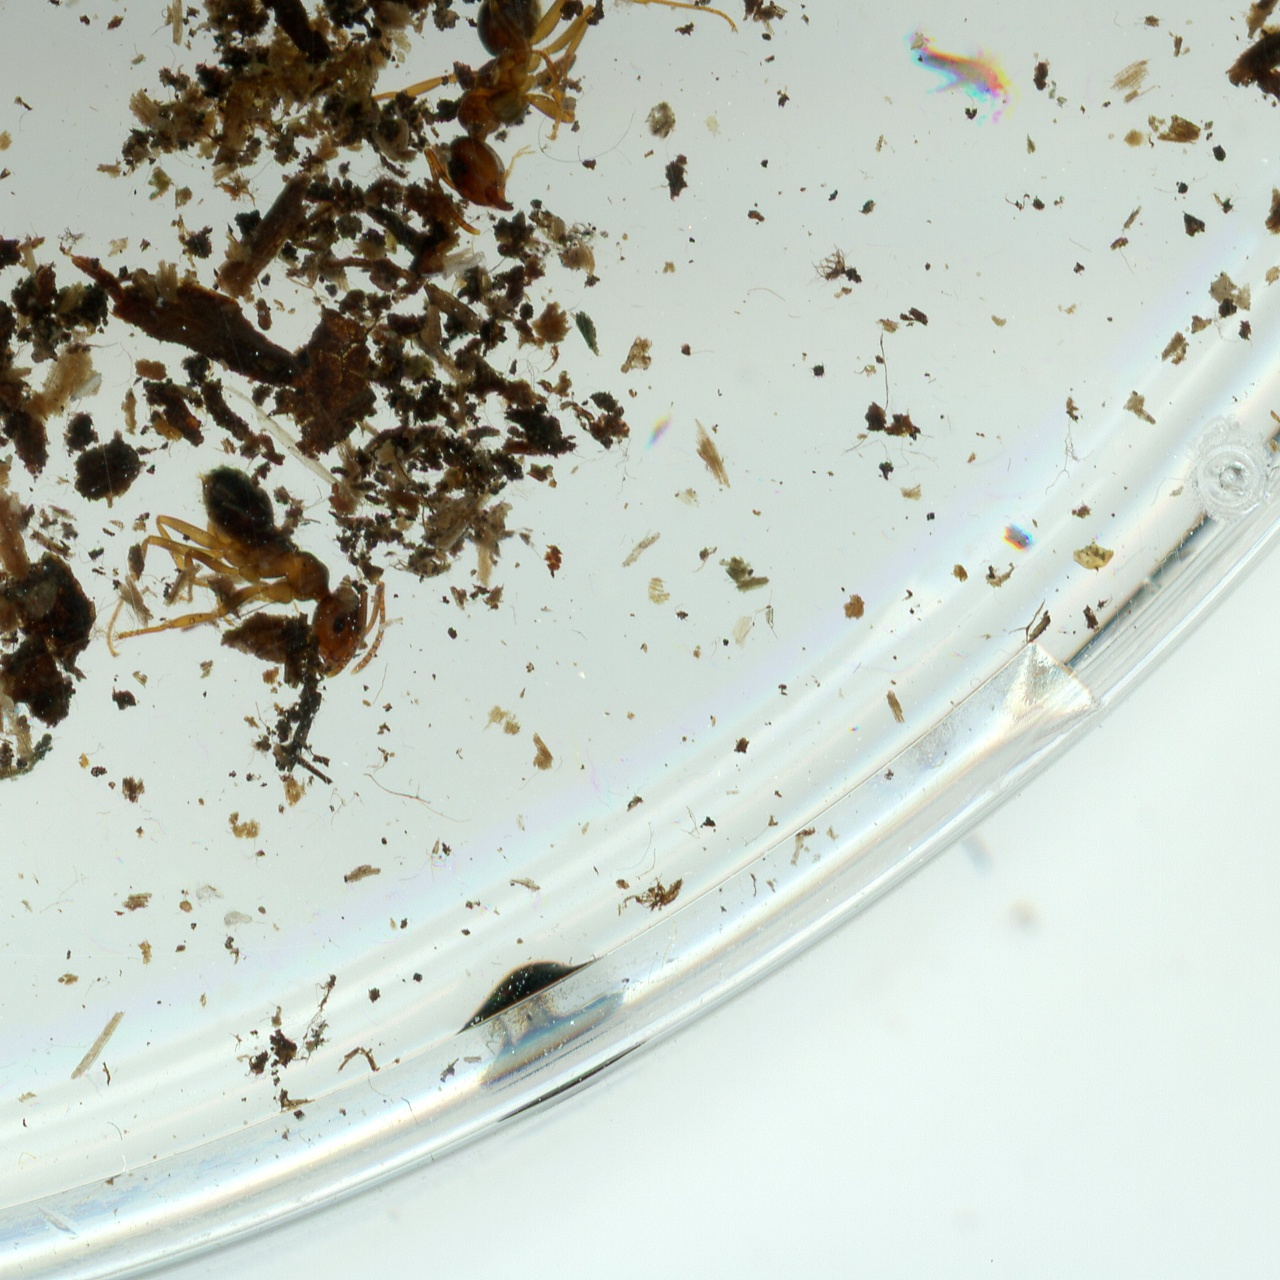arthropod: (61, 431, 420, 790), (345, 0, 764, 285), (896, 11, 1036, 136), (416, 240, 498, 307), (59, 366, 111, 415), (219, 908, 268, 934), (190, 880, 229, 910)
